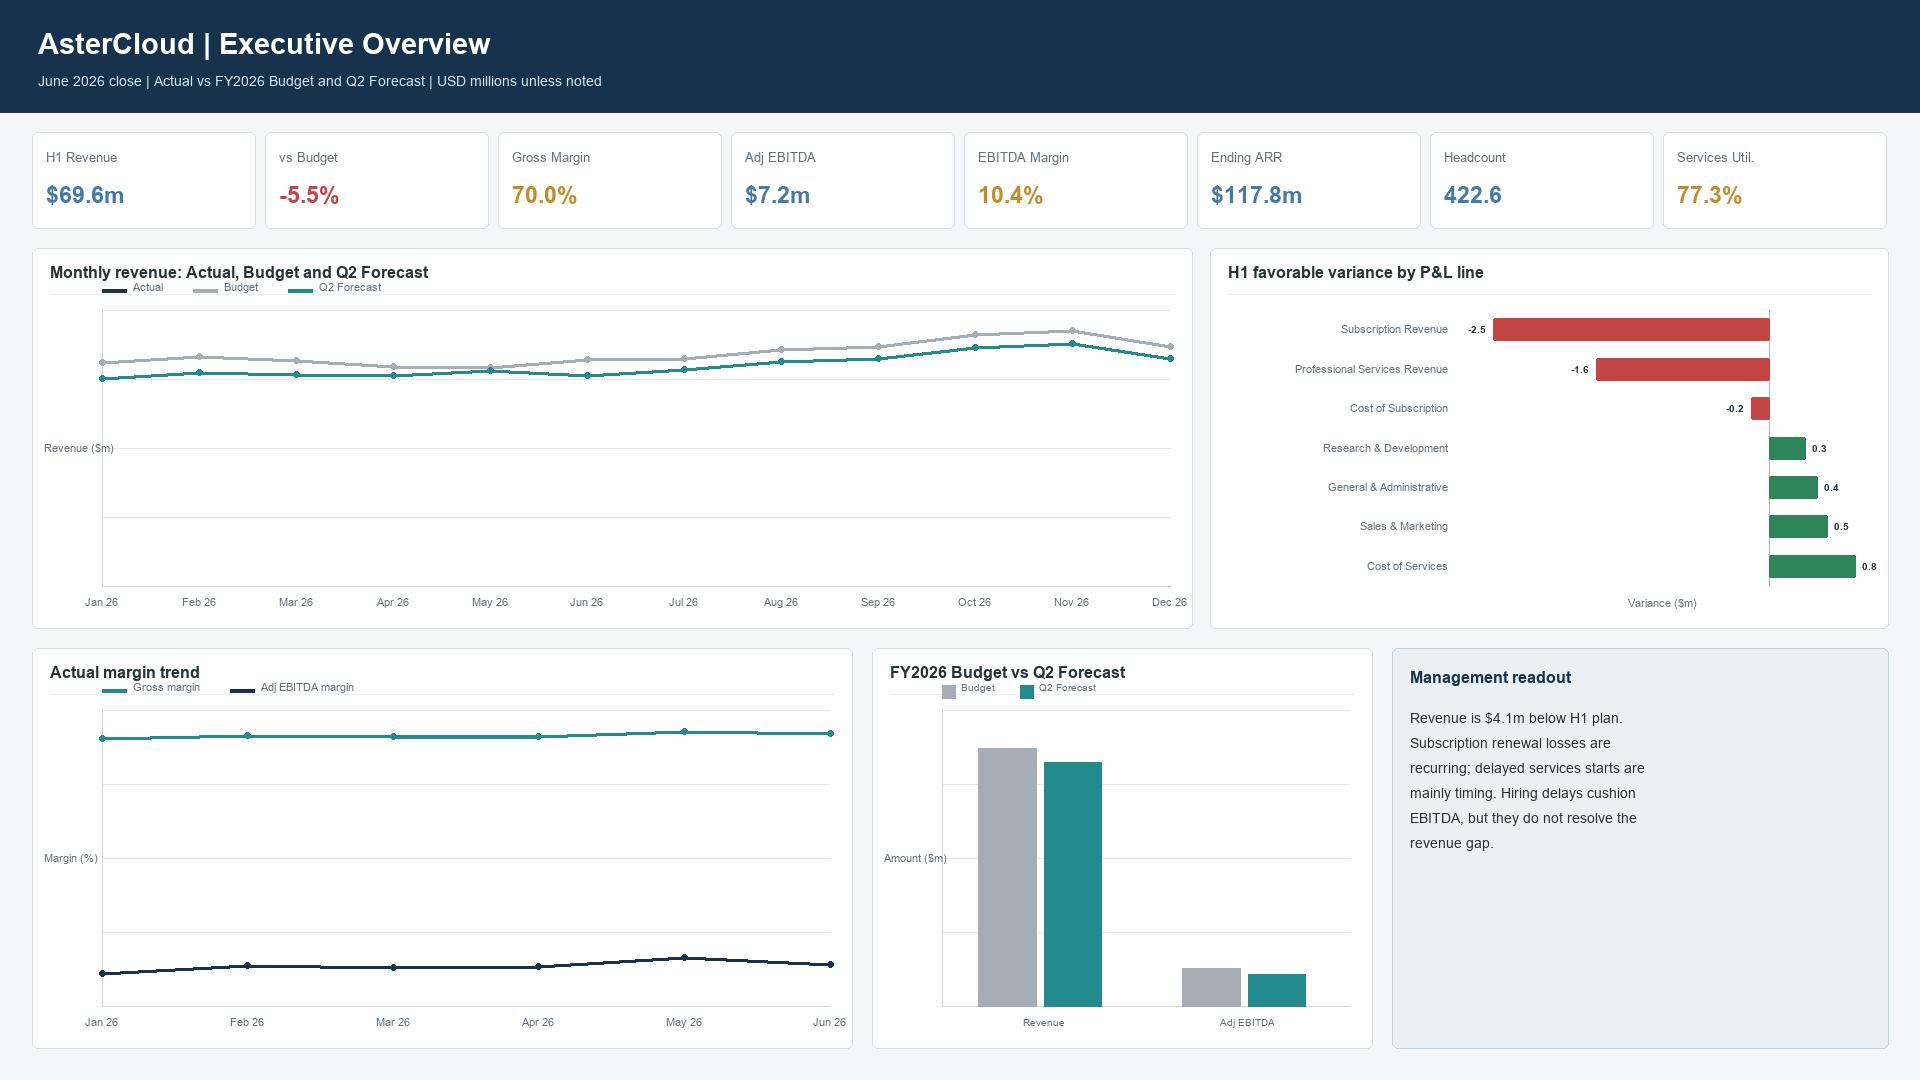

The page's visual inventory and layout, read from the dashboard file:
{"tool":"tableau","page":{"name":"01 Executive Overview","canvas":[1366,768],"ordinal":0},"visuals":[{"type":"text","box":[0,0,1366,69.1]},{"type":"worksheet","title":"Exec KPI Strip","mark":"Text","cols":["Category"],"box":[13.7,80.6,1338.7,96]},{"type":"worksheet","title":"Monthly Revenue Trend","mark":"Line","rows":["Value"],"cols":["Period"],"box":[13.7,184.3,833.3,272.6]},{"type":"worksheet","title":"H1 Favorable Variance","mark":"Bar","rows":["Category"],"cols":["Value"],"box":[860.6,184.3,491.8,272.6]},{"type":"worksheet","title":"Actual Margin Trend","mark":"Line","rows":["Value"],"cols":["Period"],"box":[13.7,468.5,607.9,288]},{"type":"worksheet","title":"FY Outlook","mark":"Bar","rows":["Value"],"cols":["Category","Series"],"box":[635.2,468.5,362,288]},{"type":"text","box":[1010.8,468.5,341.5,288]}]}

Visuals, with their boxes in screenshot pixels (x1, y1, x2, y2), scaled from the page's 1366x768 canvas onto the 1920x1080 screenshot:
text: <region>0, 0, 1919, 97</region>
"Exec KPI Strip" worksheet (Text marks): <region>19, 113, 1901, 248</region>
"Monthly Revenue Trend" worksheet (Line marks): <region>19, 259, 1191, 643</region>
"H1 Favorable Variance" worksheet (Bar marks): <region>1210, 259, 1901, 643</region>
"Actual Margin Trend" worksheet (Line marks): <region>19, 659, 874, 1064</region>
"FY Outlook" worksheet (Bar marks): <region>893, 659, 1402, 1064</region>
text: <region>1421, 659, 1901, 1064</region>
